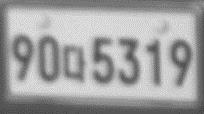0: (38, 35, 60, 81)
1: (146, 37, 162, 86)
3: (118, 37, 141, 84)
5: (93, 36, 115, 82)
9: (170, 39, 192, 85), (12, 34, 33, 79)
다: (63, 43, 86, 81)
